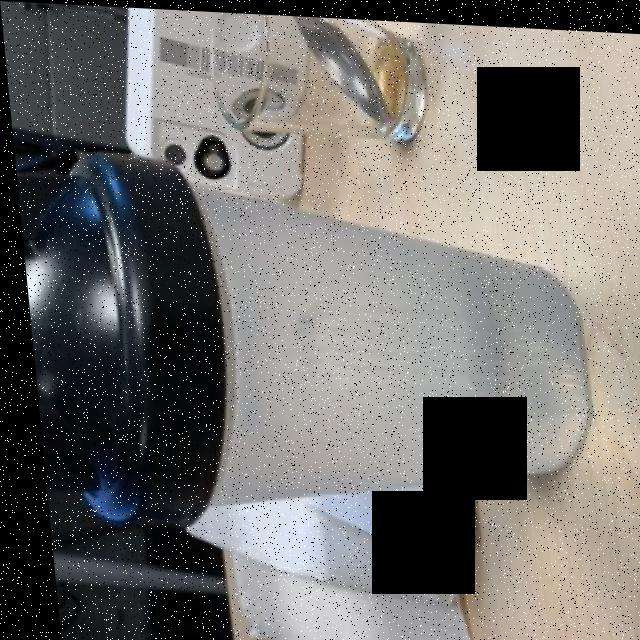water: (44, 168, 541, 514)
